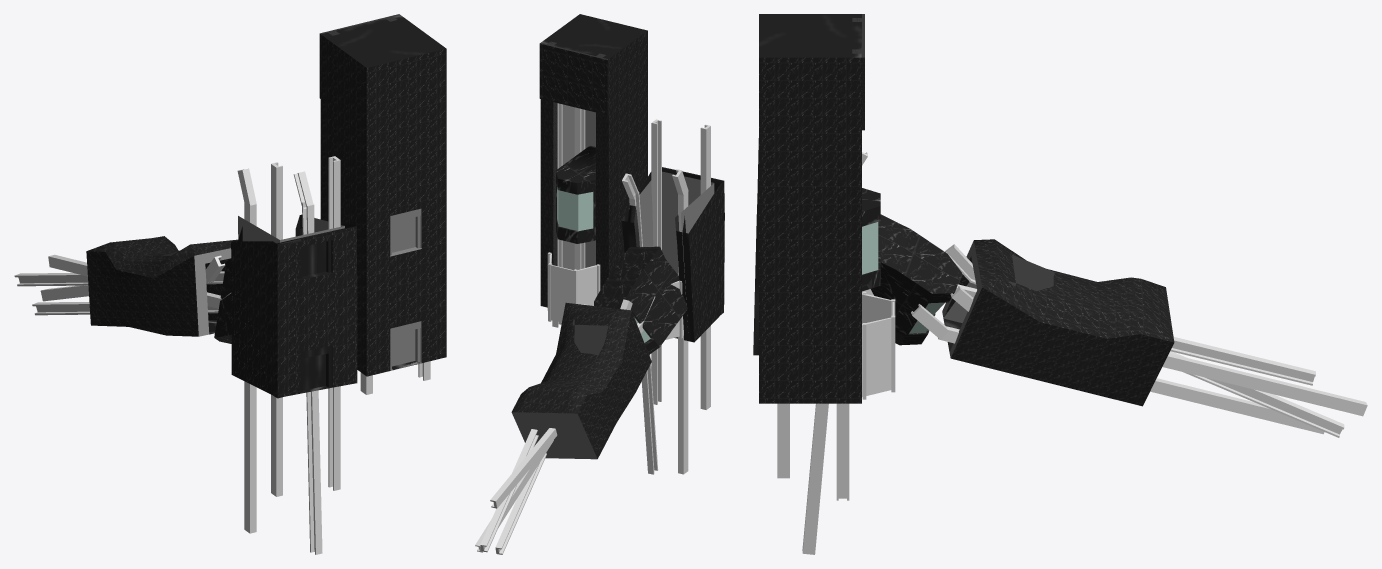
File: elevator_hero.fbx
The picture shows the model from 3 angles, left to right: view 1: azimuth 30°, elevation 25°; view 2: azimuth 150°, elevation 25°; view 3: azimuth 270°, elevation 25°; orthographic projection. The views are drawn at different scales.
Visible parts, largest first — view 1: elevator body 1, elevator body 1.001, Cube, Cube.010, Cube.007, Cube.009, Cube.008, Cube.005, Elevator Pod 2, Cube.006, Cube.012, Cube.011; view 2: elevator body 1, Cube, elevator body 1.001, Elevator Pod 2, marble_bump, Cube.007, Cube.009, Cube.013, Cube.010, Cube.008, Cube.011, Cube.005 (+4 smaller); view 3: elevator body 1, Cube, Elevator Pod 2, Cube.005, Cube.012, Cube.013, Cube.006, Cube.011, Cube.010, marble_bump, Cube.007.
Boxes of the visible parts, bbox=[...] form: elevator body 1: bbox=[319, 14, 446, 376]; elevator body 1.001: bbox=[231, 214, 357, 398]; Cube: bbox=[86, 236, 237, 336]; Cube.010: bbox=[293, 171, 322, 554]; Cube.007: bbox=[237, 168, 256, 533]; Cube.009: bbox=[328, 156, 340, 490]; Cube.008: bbox=[271, 162, 282, 496]; Cube.005: bbox=[14, 271, 224, 286]; Elevator Pod 2: bbox=[214, 259, 231, 343]; Cube.006: bbox=[40, 255, 224, 301]; Cube.012: bbox=[32, 302, 218, 315]; Cube.011: bbox=[48, 254, 231, 308]; elevator body 1: bbox=[539, 14, 647, 307]; Cube: bbox=[511, 302, 651, 459]; elevator body 1.001: bbox=[621, 167, 724, 342]; Elevator Pod 2: bbox=[594, 246, 687, 354]; marble_bump: bbox=[556, 146, 595, 243]; Cube.007: bbox=[672, 169, 688, 474]; Cube.009: bbox=[651, 119, 661, 404]; Cube.013: bbox=[549, 253, 596, 322]; Cube.010: bbox=[622, 173, 658, 474]; Cube.008: bbox=[700, 124, 710, 409]; Cube.011: bbox=[490, 296, 655, 508]; Cube.005: bbox=[480, 304, 587, 552]; elevator body 1: bbox=[759, 14, 864, 403]; Cube: bbox=[942, 239, 1174, 406]; Elevator Pod 2: bbox=[871, 214, 961, 345]; Cube.005: bbox=[950, 286, 1367, 416]; Cube.012: bbox=[911, 304, 1324, 434]; Cube.013: bbox=[862, 293, 894, 396]; Cube.006: bbox=[945, 244, 1344, 437]; Cube.011: bbox=[955, 284, 1315, 385]; Cube.010: bbox=[802, 152, 867, 554]; marble_bump: bbox=[862, 188, 880, 291]; Cube.007: bbox=[836, 428, 849, 500].
Size of the model in its own units: 2461 by 6184 by 6208.
